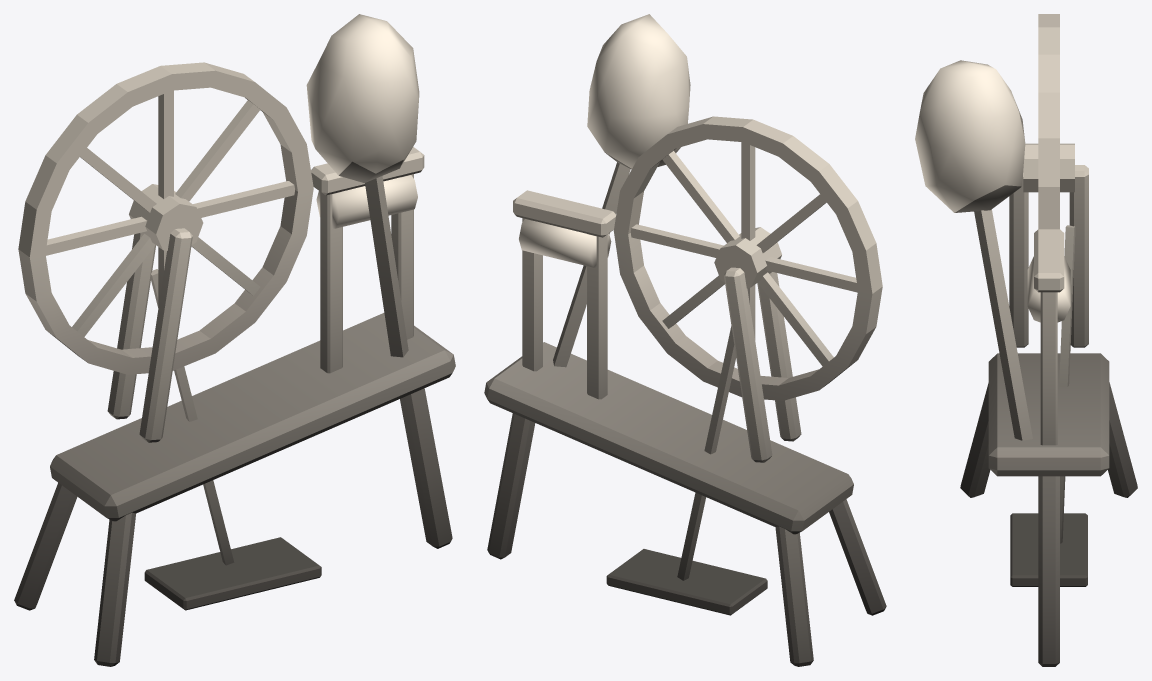
File: SM_VK_Prop_SpinningWheel.fbx
3 views of the same model, side by side, from view 1: azimuth 30°, elevation 25°; view 2: azimuth 150°, elevation 25°; view 3: azimuth 270°, elevation 25° (orthographic). The views are drawn at different scales.
Parts seen in each view (by area): view 1: SM_VK_Prop_SpinningWheel.001; view 2: SM_VK_Prop_SpinningWheel.001; view 3: SM_VK_Prop_SpinningWheel.001.
Part boxes in pixels (x1,y1,x2,y2): SM_VK_Prop_SpinningWheel.001: (14, 14, 455, 666); SM_VK_Prop_SpinningWheel.001: (484, 14, 886, 666); SM_VK_Prop_SpinningWheel.001: (915, 14, 1137, 666).
Bounding box in the file's own units: 1.08 × 1.41 × 0.5175.
